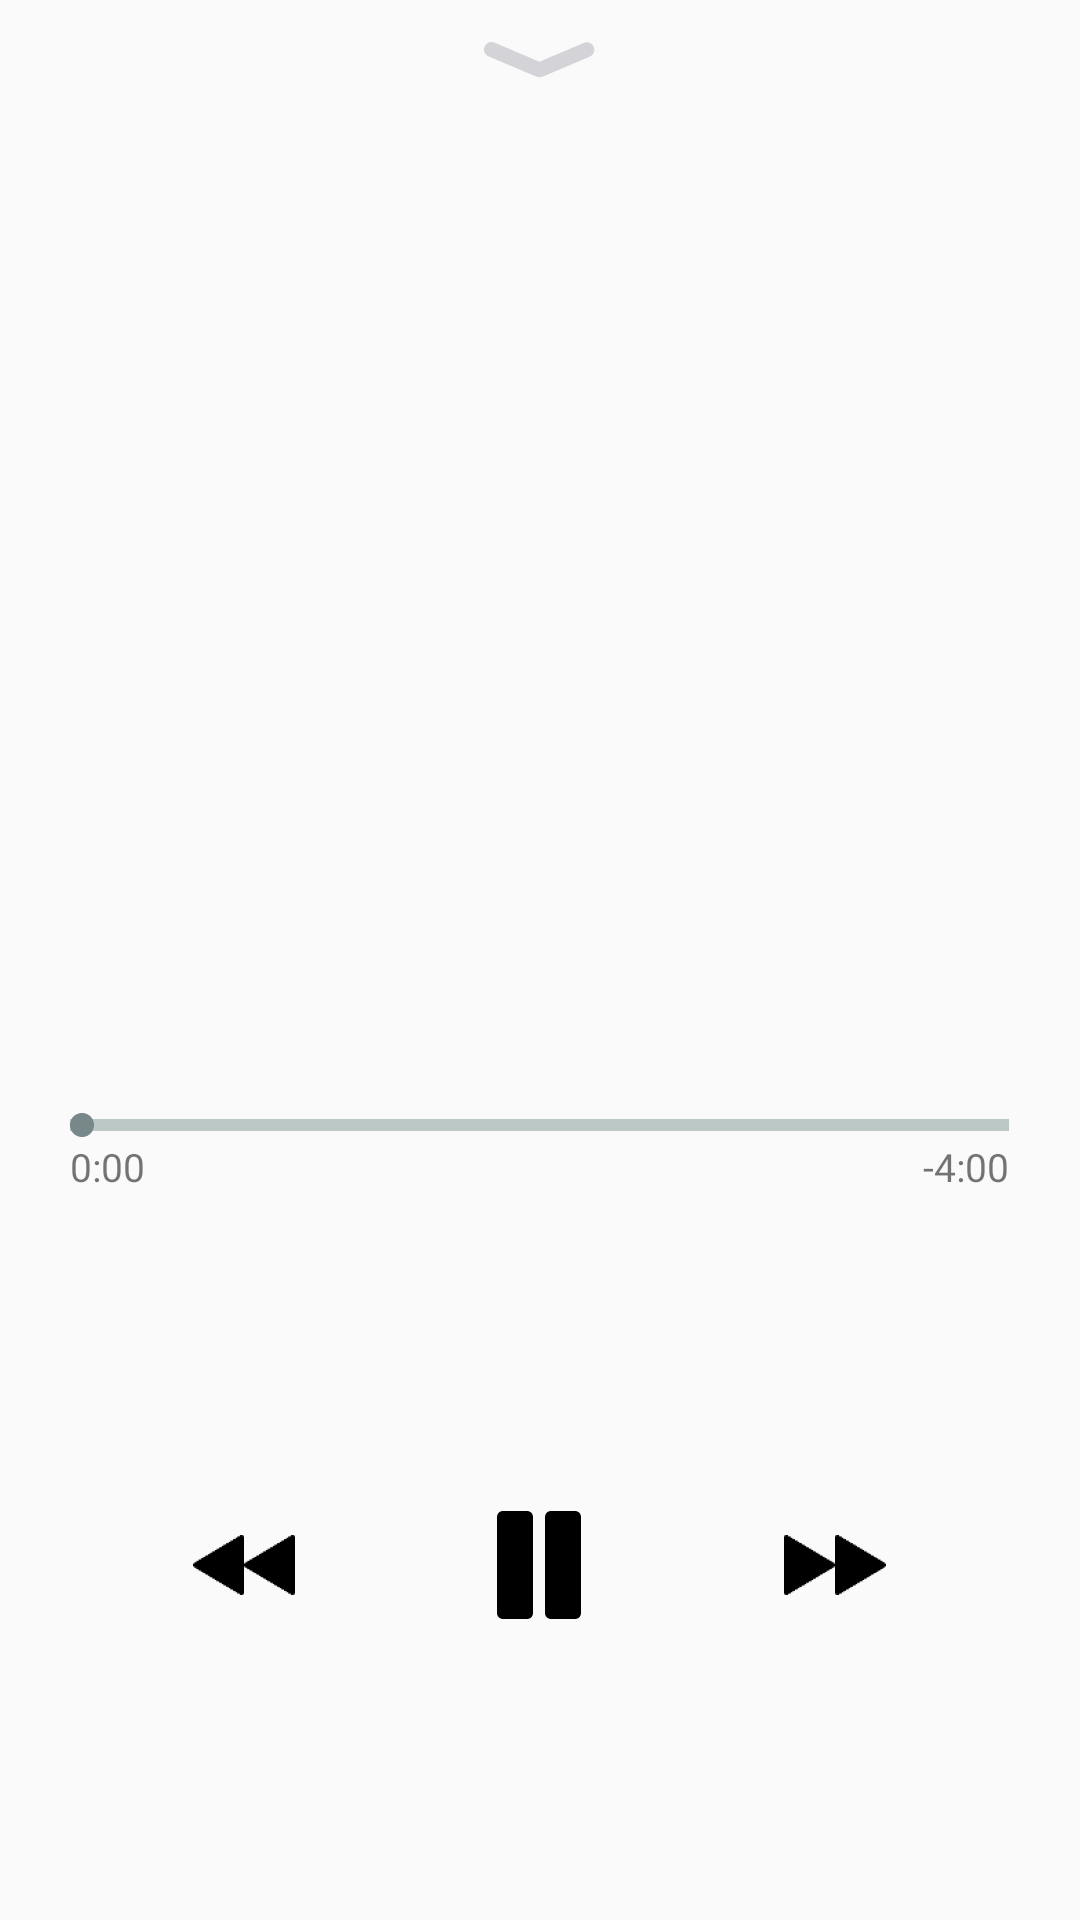

Where icons sit on this 1080px×1920px app screen, as (x1, y1, x2, y2):
back track: (193, 1535, 295, 1595)
drag down: (484, 42, 594, 77)
fast forward: (784, 1535, 886, 1595)
knob: (70, 1113, 94, 1137)
pause: (497, 1511, 581, 1619)
